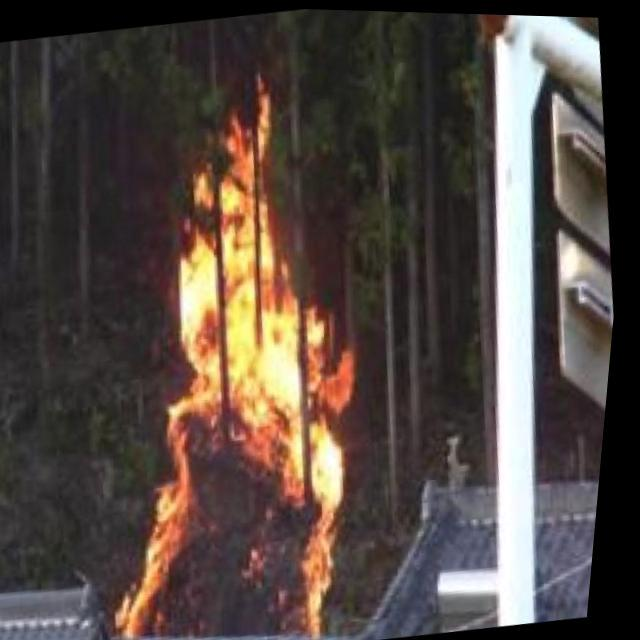fire: (81, 116, 402, 640)
